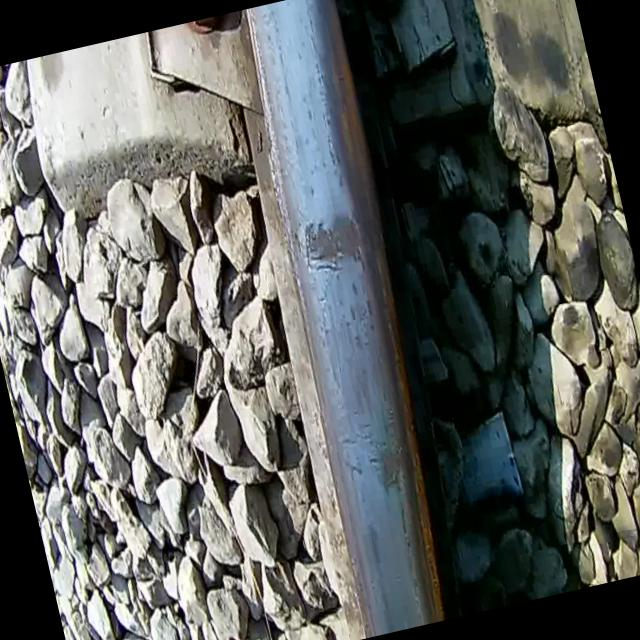Squats: (290, 200, 374, 287), (364, 432, 416, 505)
